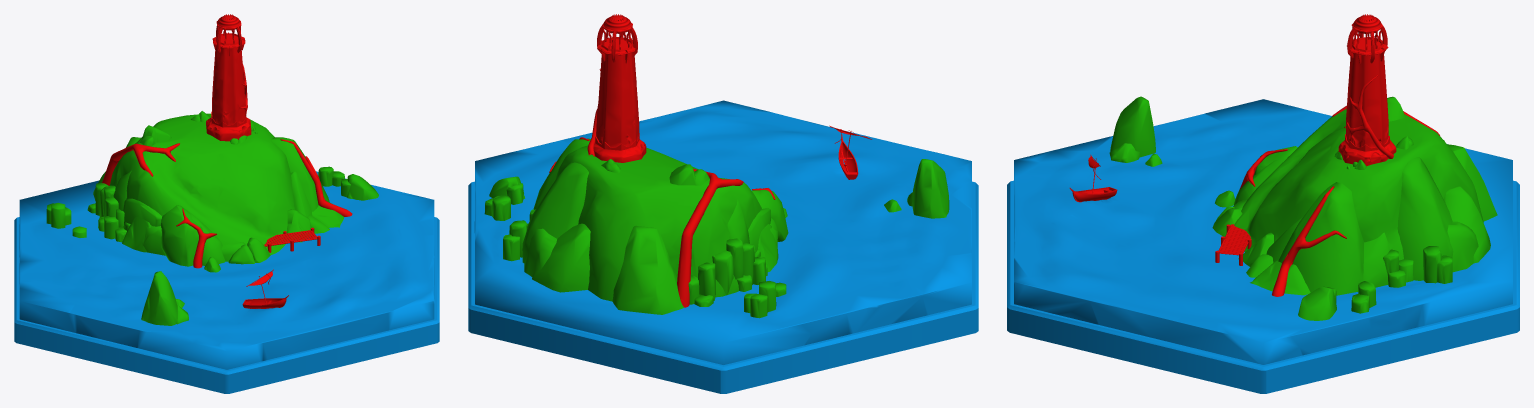
The model's file is OceanCorrupted.fbx.
The picture shows the model from 3 angles, left to right: view 1: azimuth 30°, elevation 25°; view 2: azimuth 150°, elevation 25°; view 3: azimuth 270°, elevation 25°; orthographic projection. The views are drawn at different scales.
Parts seen in each view (by area): view 1: Water_low, MainHigh_low, Light_low, Tendrils_low, Dock_low, Boat_low; view 2: Water_low, MainHigh_low, Light_low, Tendrils_low, Boat_low; view 3: Water_low, MainHigh_low, Light_low, Tendrils_low, Dock_low, Boat_low.
Boxes of the visible parts, left/top/right/bottom form: Water_low: left=14, top=171, right=439, bottom=393; MainHigh_low: left=46, top=111, right=378, bottom=325; Light_low: left=206, top=14, right=251, bottom=141; Tendrils_low: left=102, top=64, right=352, bottom=268; Dock_low: left=264, top=230, right=317, bottom=246; Boat_low: left=242, top=269, right=288, bottom=308; Water_low: left=468, top=100, right=978, bottom=393; MainHigh_low: left=484, top=138, right=949, bottom=318; Light_low: left=591, top=14, right=646, bottom=162; Tendrils_low: left=549, top=69, right=775, bottom=307; Boat_low: left=829, top=125, right=871, bottom=179; Water_low: left=1007, top=99, right=1519, bottom=393; MainHigh_low: left=1109, top=96, right=1497, bottom=320; Light_low: left=1338, top=14, right=1396, bottom=166; Tendrils_low: left=1239, top=75, right=1439, bottom=296; Dock_low: left=1218, top=224, right=1250, bottom=255; Boat_low: left=1069, top=154, right=1117, bottom=202.
Bounding box in the file's own units: 809 × 423 × 704.
